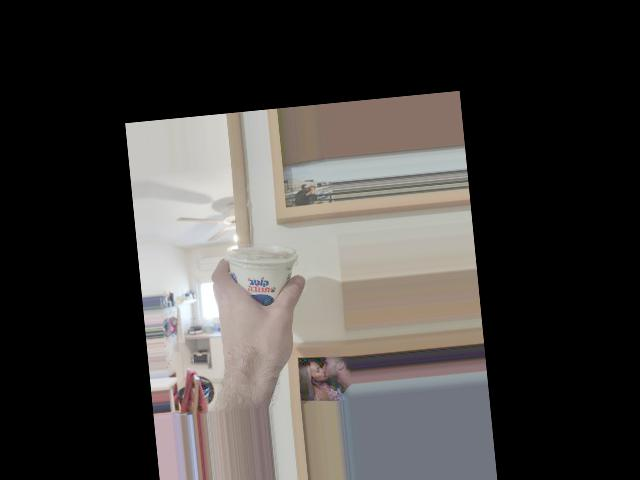cotage: (218, 237, 300, 325)
